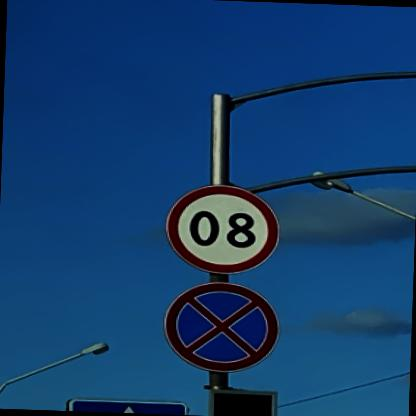crosswalk: (64, 398, 192, 414)
speedlimit: (166, 184, 284, 274)
trafficlight: (207, 386, 283, 415)
